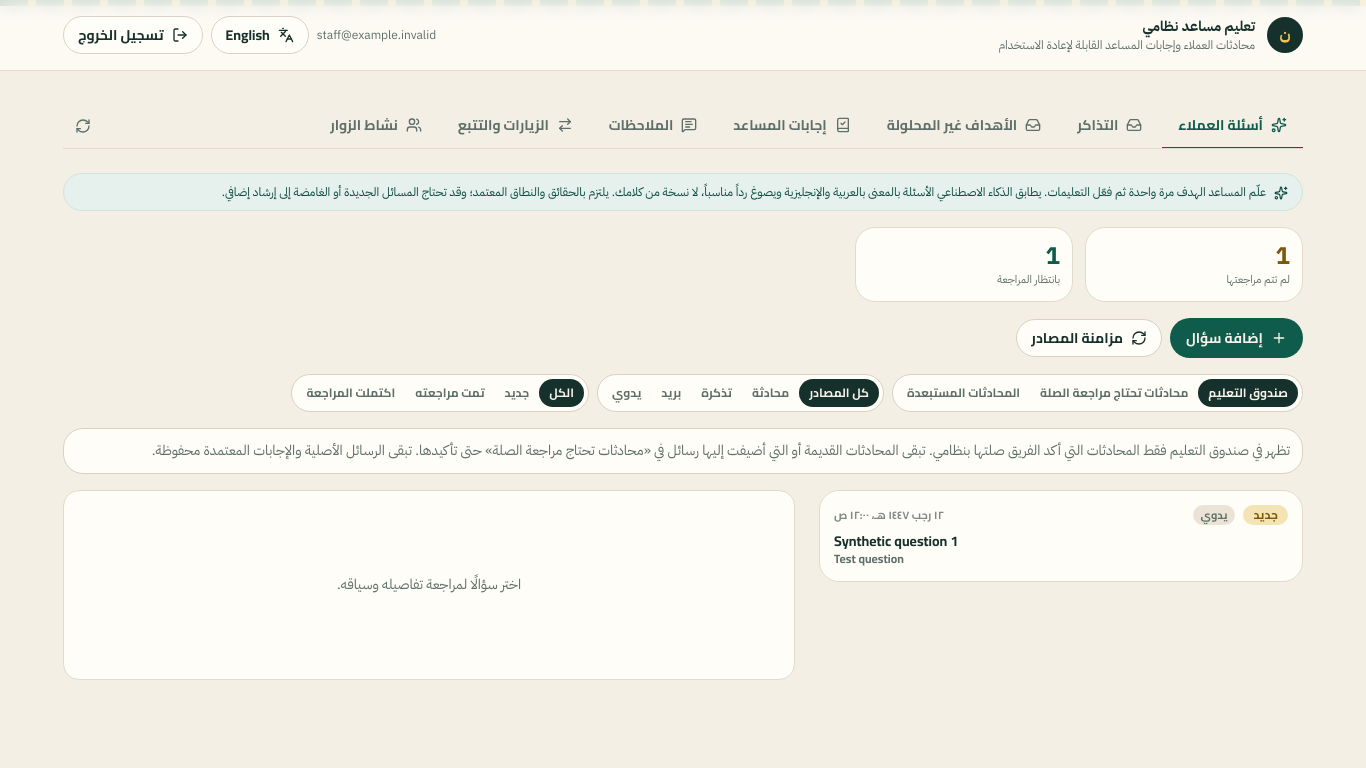
Test: inbox sync in ar › refreshes local questions after partial success and replaces earlier success with a warning
Expected: the button with test id "card-inbox-1" is shown, [819,490,1303,582]
Step 1. Click the button with test id "button-sync" → (1089, 338), box [1016,318,1162,356]
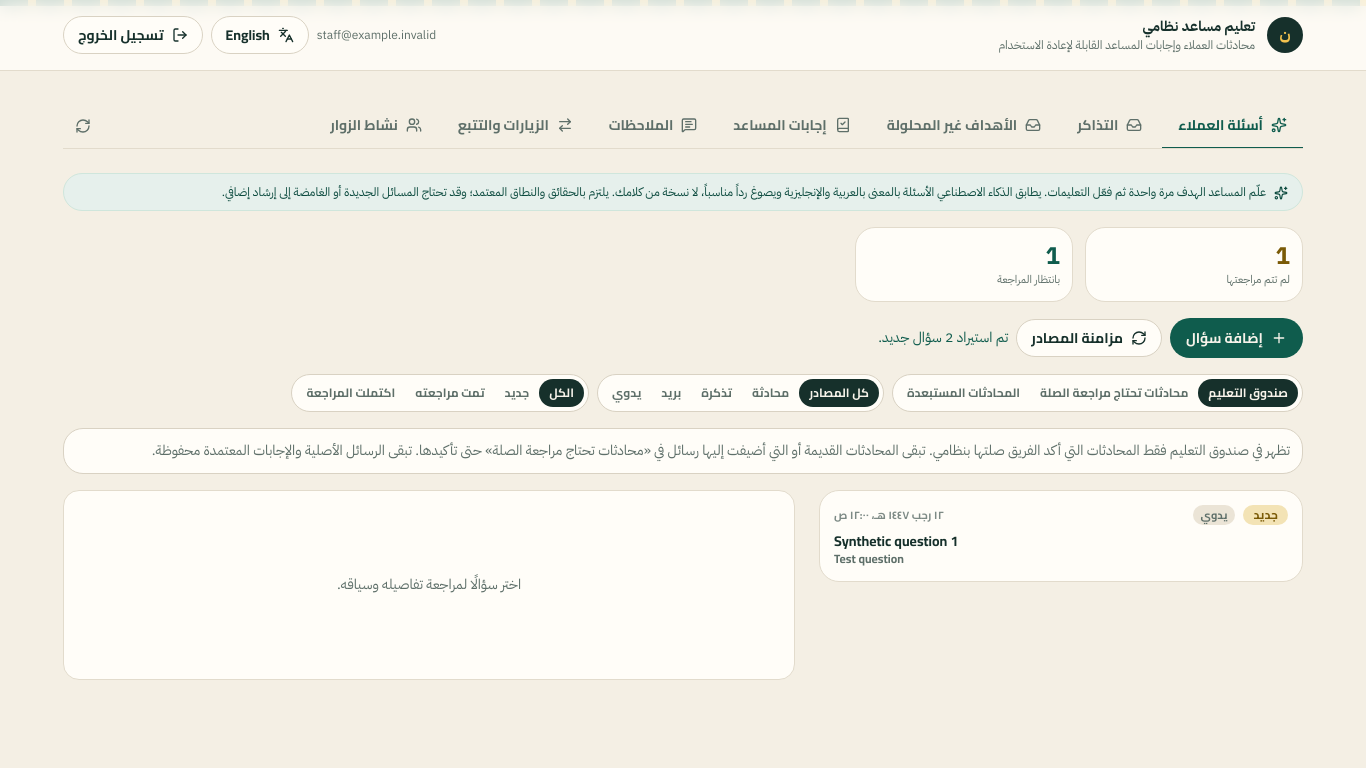
Expected: the message reads "تم استيراد 2 سؤال جديد.", [878,326,1008,348]
Step 2. Click the button with test id "button-sync" → (1089, 338), box [1016,318,1162,356]
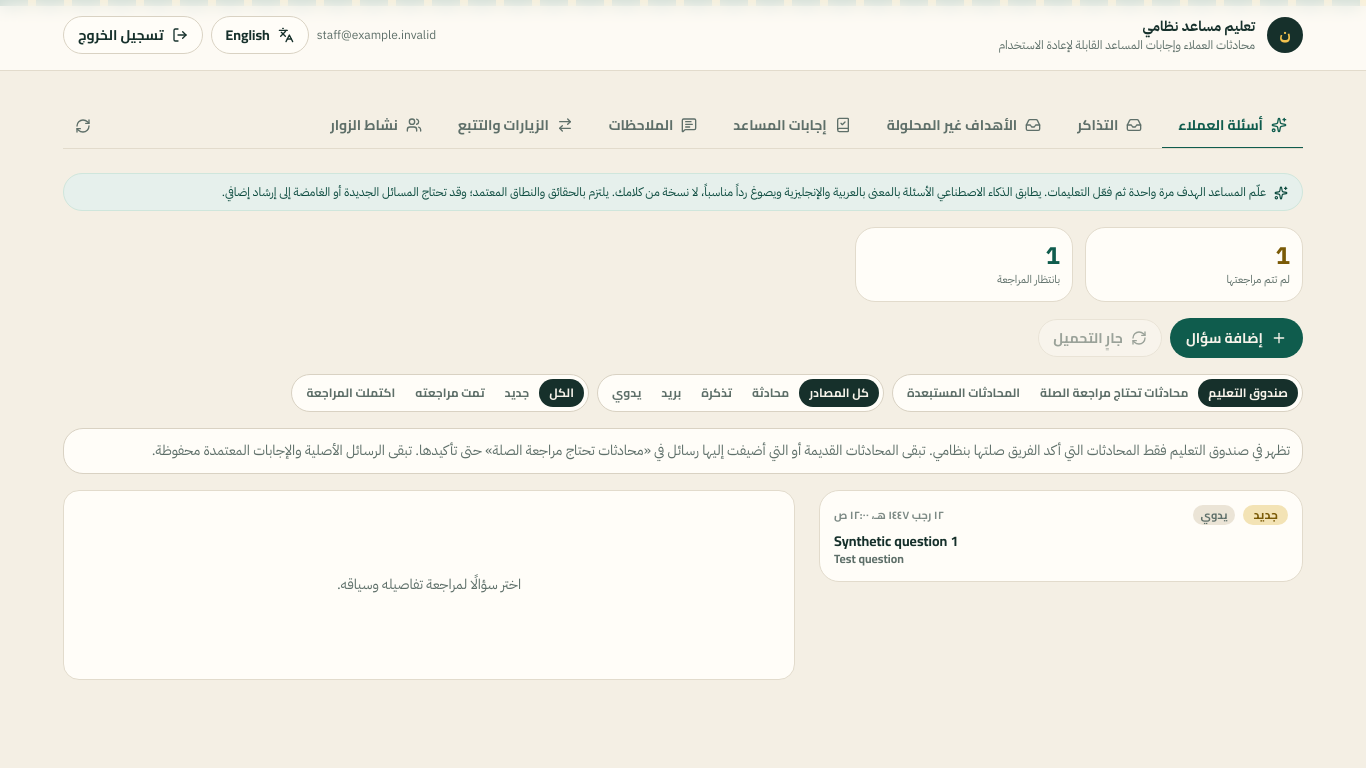
Expected: the button with test id "button-sync" is disabled
Expected: the message "تم استيراد 2 سؤال جديد." is gone
Step 3. Click the button with test id "button-sync" → (1100, 338), box [1038,318,1162,356]
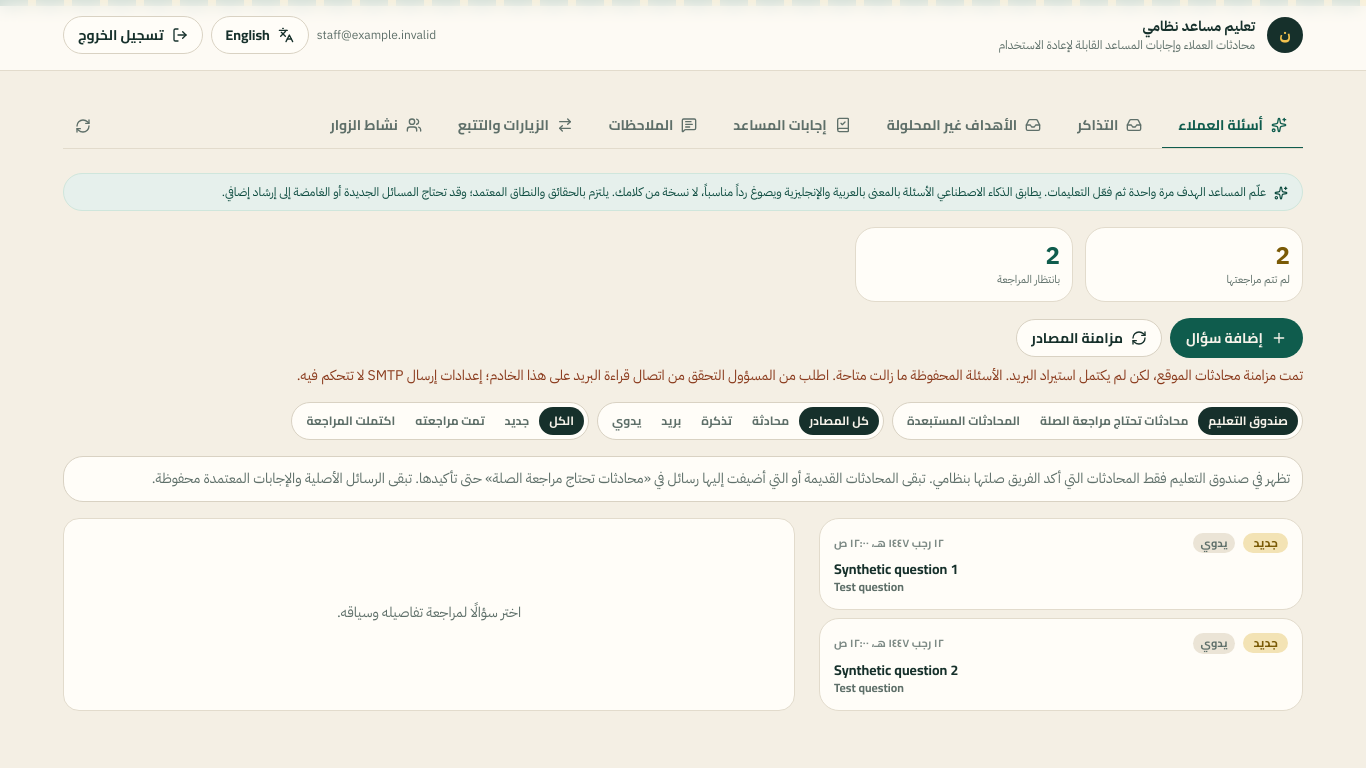
Expected: the button with test id "card-inbox-2" is shown, [819,618,1303,710]
Expected: the message shows "تمت مزامنة محادثات الموقع", [297,364,1303,386]
Expected: the button with test id "button-sync" is enabled, [1016,318,1162,356]
